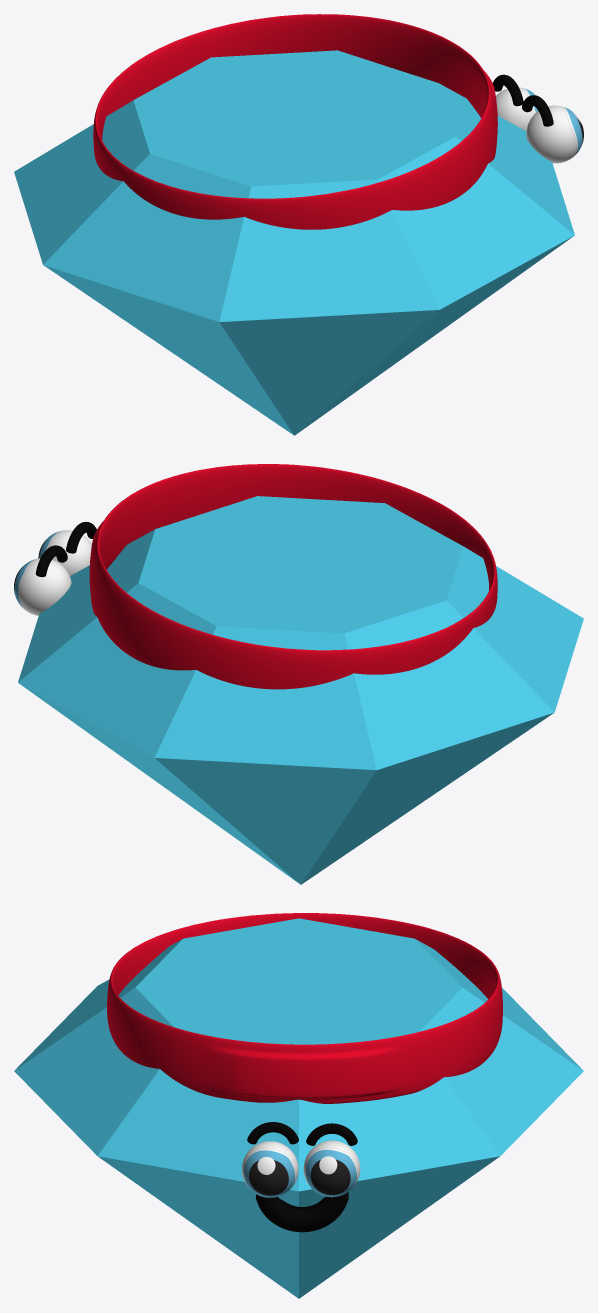
File: diamantebanda.glb
3 renders of one model, top to bottom at view 1: azimuth 30°, elevation 25°; view 2: azimuth 150°, elevation 25°; view 3: azimuth 270°, elevation 25°, orthographic. The views are drawn at different scales.
Visible parts, largest first — view 1: SimpleDia, Torus.001, Sphere, Sphere.001; view 2: SimpleDia, Torus.001, Sphere.001, Sphere; view 3: SimpleDia, Torus.001, Sphere.001, Sphere, Circle.001, Circle, Circle.002.
Part boxes in pixels (<box>): SimpleDia: <box>14,50,574,435</box>; Torus.001: <box>93,14,497,229</box>; Sphere: <box>526,105,583,163</box>; Sphere.001: <box>496,87,538,131</box>; SimpleDia: <box>18,496,583,884</box>; Torus.001: <box>89,464,497,689</box>; Sphere.001: <box>14,558,71,615</box>; Sphere: <box>38,530,91,575</box>; SimpleDia: <box>14,918,583,1298</box>; Torus.001: <box>107,913,502,1103</box>; Sphere.001: <box>303,1140,360,1197</box>; Sphere: <box>242,1141,298,1197</box>; Circle.001: <box>256,1192,348,1232</box>; Circle: <box>247,1122,298,1144</box>; Circle.002: <box>306,1123,357,1145</box>.
Size of the model in its own units: 1.19 by 0.749 by 1.15.
Materials: 6 (1 with a texture image).
